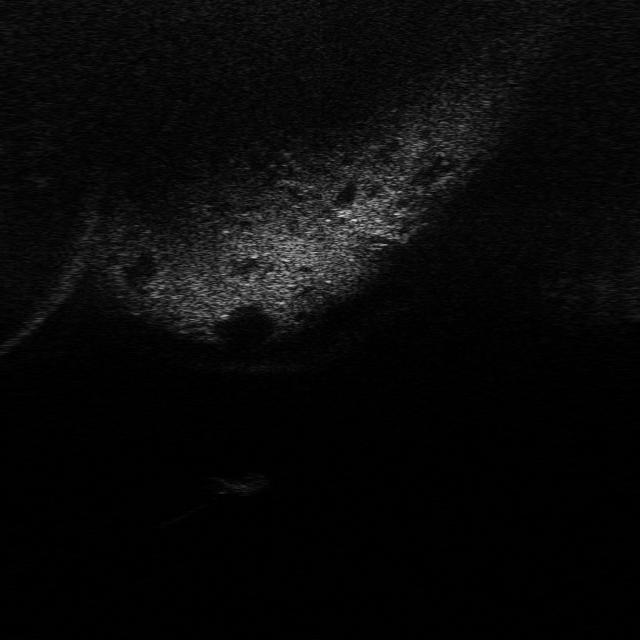cube: (207, 469, 269, 499)
